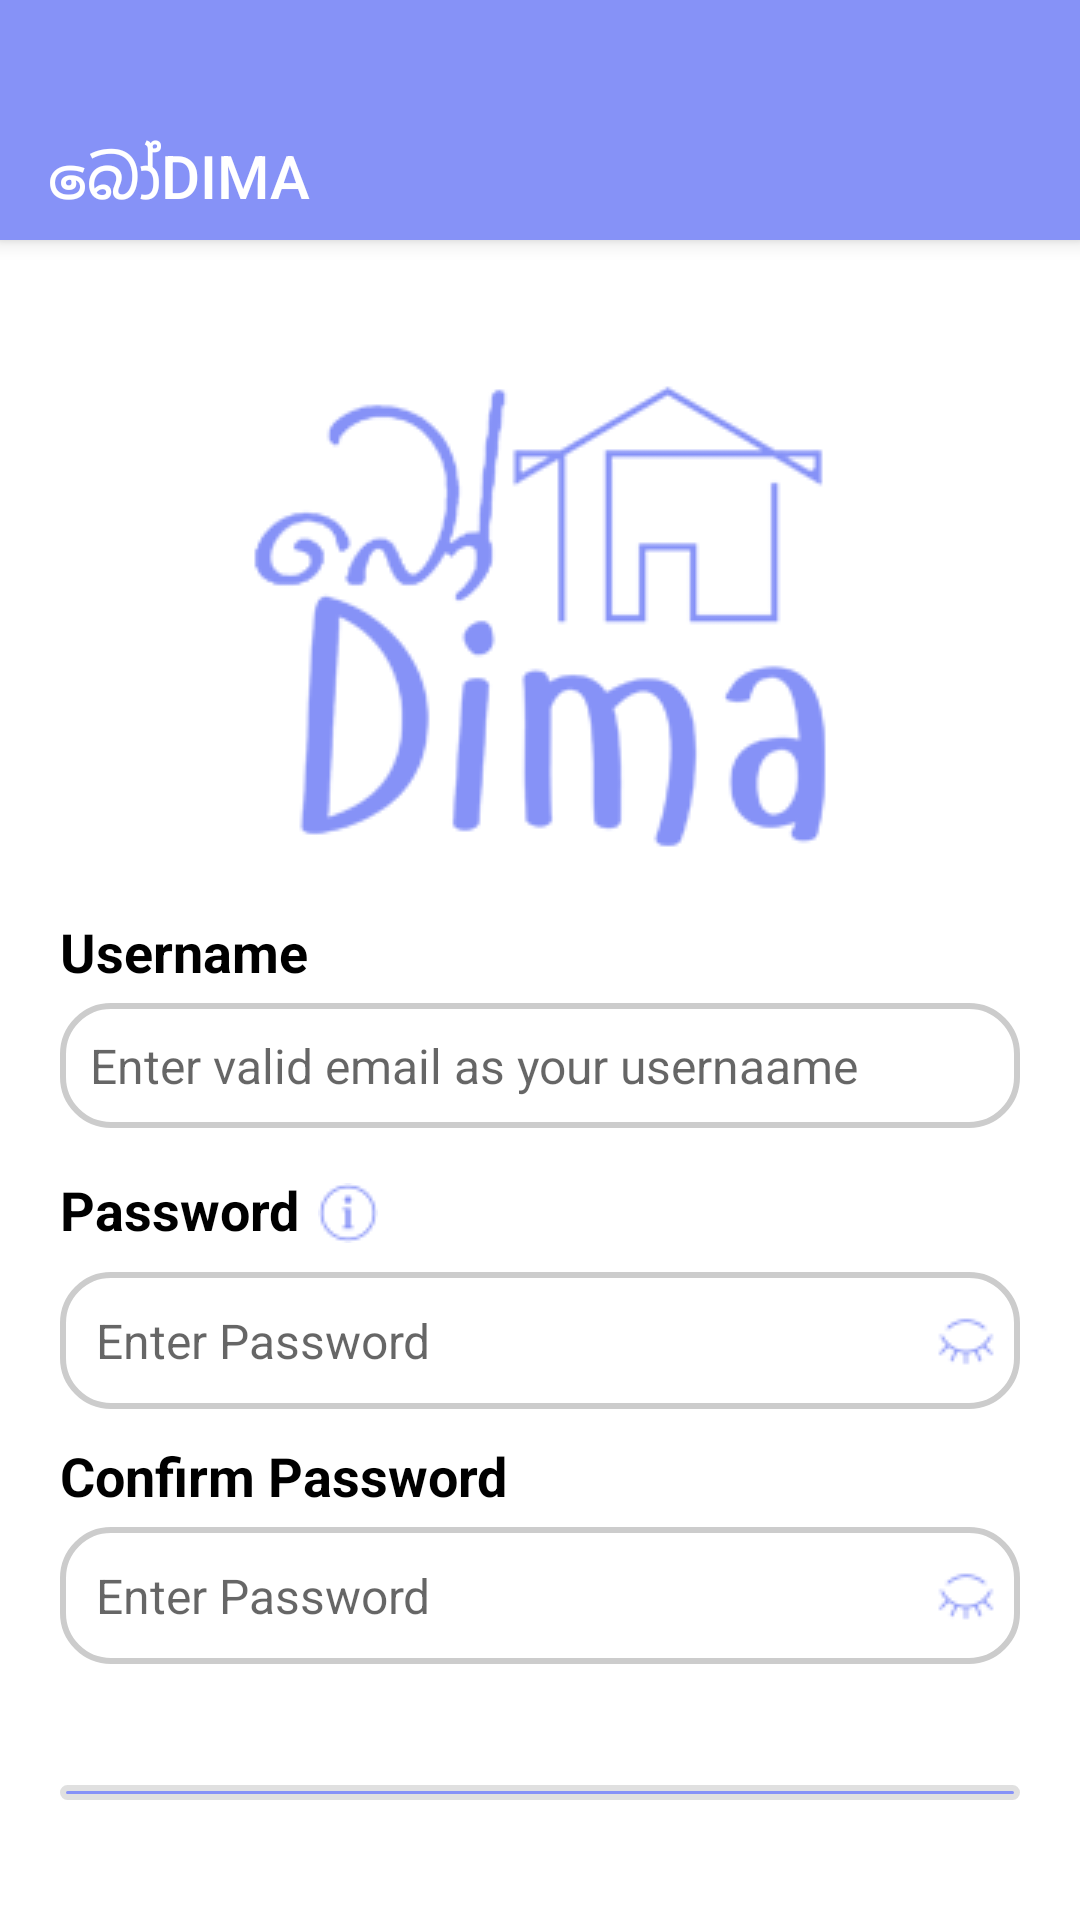

Point at icon controls on the screen. Image size 1080 x 1920, points as (x=x, y=y).
eye close: (x=966, y=1341), (x=966, y=1596)
hint: (x=348, y=1213)
